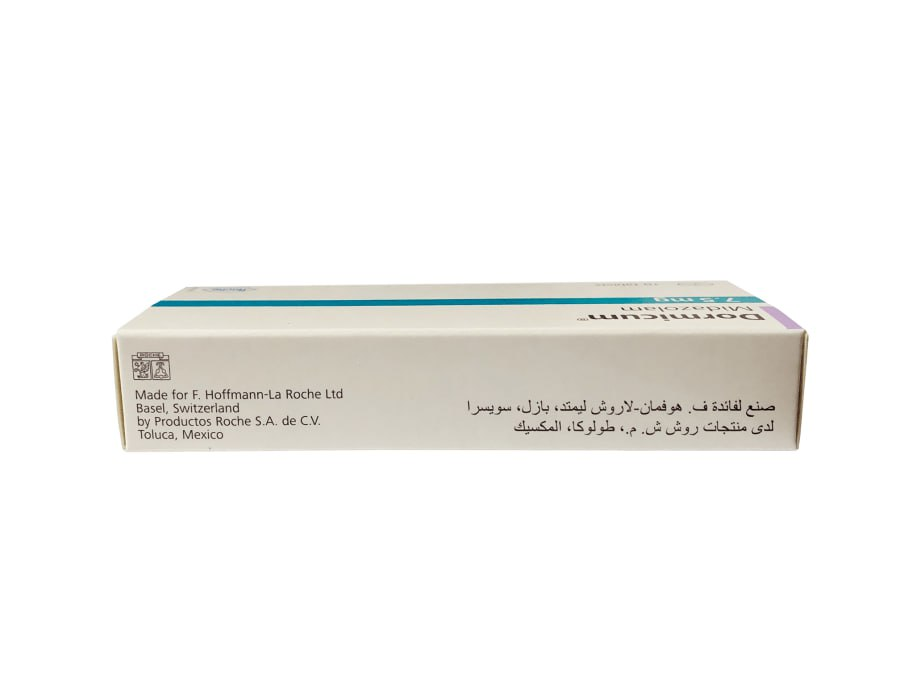Medicine: (100, 274, 816, 474)
